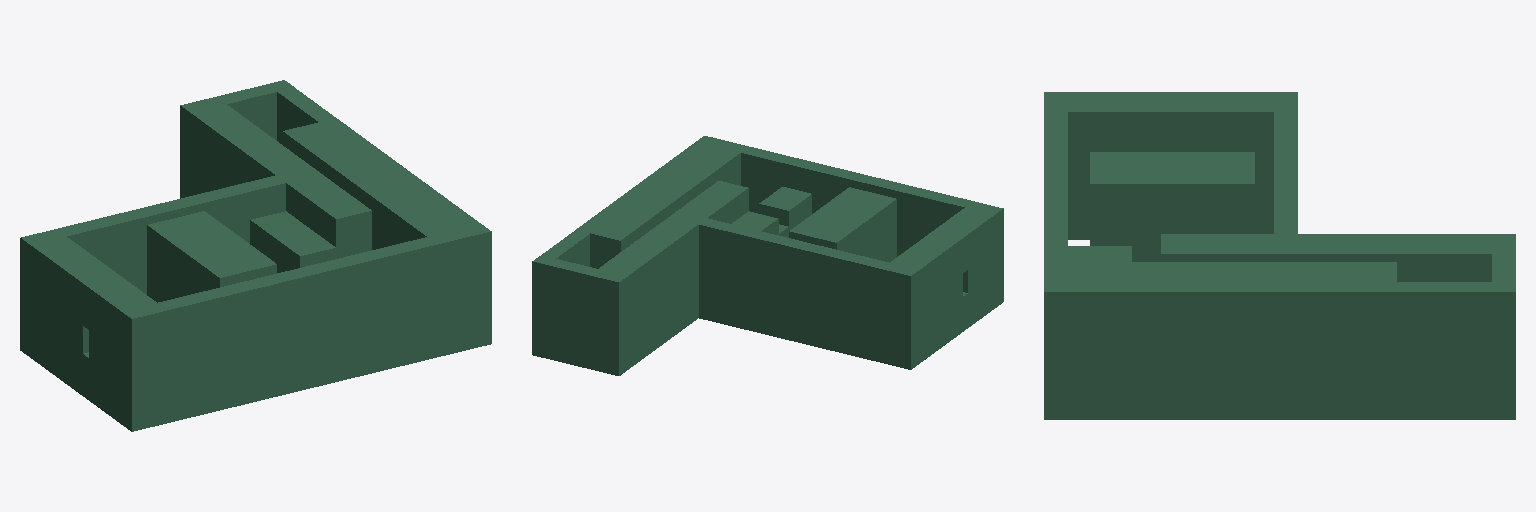
The robot description file, URDF, robot "folding_drone_obstacle2":
<?xml version='1.0' encoding='utf-8'?>
<robot name="folding_drone_obstacle2">
  <link name="base_link" />
  <link name="top_wall_0">
    <inertial>
      <origin xyz="2.0 0.0 1.9375" rpy="0 0 0" />
      <mass value="999999999999999999999999999.0" />
      <inertia ixx="0.01" ixy="0" ixz="0" iyy="0.01" iyz="0" izz="0.01" />
    </inertial>
    <visual>
      <origin xyz="2.0 0.0 1.9375" rpy="0 0 0" />
      <geometry>
        <box size="1.0 5.36 1.125" />
      </geometry>
      <material name="top_wall_0_color">
        <color rgba="0.296 0.475 0.382 1" />
      </material>
    </visual>
    <collision>
      <origin xyz="2.0 0.0 1.9375" rpy="0 0 0" />
      <geometry>
        <box size="1.0 5.36 1.125" />
      </geometry>
    </collision>
  </link>
  <joint name="joint_1_top_wall_0" type="fixed">
    <parent link="base_link" />
    <child link="top_wall_0" />
    <origin xyz="0 0 0" rpy="0 0 0" />
  </joint>
  <link name="bottom_wall_0">
    <inertial>
      <origin xyz="2.0 0.0 0.0625" rpy="0 0 0" />
      <mass value="999999999999999999999999999.0" />
      <inertia ixx="0.01" ixy="0" ixz="0" iyy="0.01" iyz="0" izz="0.01" />
    </inertial>
    <visual>
      <origin xyz="2.0 0.0 0.0625" rpy="0 0 0" />
      <geometry>
        <box size="1.0 5.36 1.125" />
      </geometry>
      <material name="bottom_wall_0_color">
        <color rgba="0.296 0.475 0.382 1" />
      </material>
    </visual>
    <collision>
      <origin xyz="2.0 0.0 0.0625" rpy="0 0 0" />
      <geometry>
        <box size="1.0 5.36 1.125" />
      </geometry>
    </collision>
  </link>
  <joint name="joint_2_bottom_wall_0" type="fixed">
    <parent link="base_link" />
    <child link="bottom_wall_0" />
    <origin xyz="0 0 0" rpy="0 0 0" />
  </joint>
  <link name="left_wall_0">
    <inertial>
      <origin xyz="2.0 -1.6500000000000001 1.0" rpy="0 0 0" />
      <mass value="999999999999999999999999999.0" />
      <inertia ixx="0.01" ixy="0" ixz="0" iyy="0.01" iyz="0" izz="0.01" />
    </inertial>
    <visual>
      <origin xyz="2.0 -1.6500000000000001 1.0" rpy="0 0 0" />
      <geometry>
        <box size="1.0 2.06 0.75" />
      </geometry>
      <material name="left_wall_0_color">
        <color rgba="0.296 0.475 0.382 1" />
      </material>
    </visual>
    <collision>
      <origin xyz="2.0 -1.6500000000000001 1.0" rpy="0 0 0" />
      <geometry>
        <box size="1.0 2.06 0.75" />
      </geometry>
    </collision>
  </link>
  <joint name="joint_3_left_wall_0" type="fixed">
    <parent link="base_link" />
    <child link="left_wall_0" />
    <origin xyz="0 0 0" rpy="0 0 0" />
  </joint>
  <link name="right_wall_0">
    <inertial>
      <origin xyz="2.0 1.1800000000000002 1.0" rpy="0 0 0" />
      <mass value="999999999999999999999999999.0" />
      <inertia ixx="0.01" ixy="0" ixz="0" iyy="0.01" iyz="0" izz="0.01" />
    </inertial>
    <visual>
      <origin xyz="2.0 1.1800000000000002 1.0" rpy="0 0 0" />
      <geometry>
        <box size="1.0 3.0 0.75" />
      </geometry>
      <material name="right_wall_0_color">
        <color rgba="0.296 0.475 0.382 1" />
      </material>
    </visual>
    <collision>
      <origin xyz="2.0 1.1800000000000002 1.0" rpy="0 0 0" />
      <geometry>
        <box size="1.0 3.0 0.75" />
      </geometry>
    </collision>
  </link>
  <joint name="joint_4_right_wall_0" type="fixed">
    <parent link="base_link" />
    <child link="right_wall_0" />
    <origin xyz="0 0 0" rpy="0 0 0" />
  </joint>
  <link name="solid_wall_1">
    <inertial>
      <origin xyz="6.5 -2.43 1.0" rpy="0 0 0" />
      <mass value="999999999999999999999999999.0" />
      <inertia ixx="0.01" ixy="0" ixz="0" iyy="0.01" iyz="0" izz="0.01" />
    </inertial>
    <visual>
      <origin xyz="6.5 -2.43 1.0" rpy="0 0 0" />
      <geometry>
        <box size="10.0 0.5 3.0" />
      </geometry>
      <material name="solid_wall_1_color">
        <color rgba="0.296 0.475 0.382 1" />
      </material>
    </visual>
    <collision>
      <origin xyz="6.5 -2.43 1.0" rpy="0 0 0" />
      <geometry>
        <box size="10.0 0.5 3.0" />
      </geometry>
    </collision>
  </link>
  <joint name="joint_5_solid_wall_1" type="fixed">
    <parent link="base_link" />
    <child link="solid_wall_1" />
    <origin xyz="0 0 0" rpy="0 0 0" />
  </joint>
  <link name="solid_wall_2">
    <inertial>
      <origin xyz="5.05 2.43 1.0" rpy="0 0 0" />
      <mass value="999999999999999999999999999.0" />
      <inertia ixx="0.01" ixy="0" ixz="0" iyy="0.01" iyz="0" izz="0.01" />
    </inertial>
    <visual>
      <origin xyz="5.05 2.43 1.0" rpy="0 0 0" />
      <geometry>
        <box size="7.1 0.5 3.0" />
      </geometry>
      <material name="solid_wall_2_color">
        <color rgba="0.296 0.475 0.382 1" />
      </material>
    </visual>
    <collision>
      <origin xyz="5.05 2.43 1.0" rpy="0 0 0" />
      <geometry>
        <box size="7.1 0.5 3.0" />
      </geometry>
    </collision>
  </link>
  <joint name="joint_6_solid_wall_2" type="fixed">
    <parent link="base_link" />
    <child link="solid_wall_2" />
    <origin xyz="0 0 0" rpy="0 0 0" />
  </joint>
  <link name="solid_wall_3">
    <inertial>
      <origin xyz="5.3 0.030000000000000027 1.0" rpy="0 0 0" />
      <mass value="999999999999999999999999999.0" />
      <inertia ixx="0.01" ixy="0" ixz="0" iyy="0.01" iyz="0" izz="0.01" />
    </inertial>
    <visual>
      <origin xyz="5.3 0.030000000000000027 1.0" rpy="0 0 0" />
      <geometry>
        <box size="1.6 3.5 3.0" />
      </geometry>
      <material name="solid_wall_3_color">
        <color rgba="0.296 0.475 0.382 1" />
      </material>
    </visual>
    <collision>
      <origin xyz="5.3 0.030000000000000027 1.0" rpy="0 0 0" />
      <geometry>
        <box size="1.6 3.5 3.0" />
      </geometry>
    </collision>
  </link>
  <joint name="joint_7_solid_wall_3" type="fixed">
    <parent link="base_link" />
    <child link="solid_wall_3" />
    <origin xyz="0 0 0" rpy="0 0 0" />
  </joint>
  <link name="top_wall_4">
    <inertial>
      <origin xyz="8.1 0.0 2.125" rpy="0 0 0" />
      <mass value="999999999999999999999999999.0" />
      <inertia ixx="0.01" ixy="0" ixz="0" iyy="0.01" iyz="0" izz="0.01" />
    </inertial>
    <collision>
      <origin xyz="8.1 0.0 2.125" rpy="0 0 0" />
      <geometry>
        <box size="1.0 5.36 0.75" />
      </geometry>
    </collision>
  </link>
  <joint name="joint_8_top_wall_4" type="fixed">
    <parent link="base_link" />
    <child link="top_wall_4" />
    <origin xyz="0 0 0" rpy="0 0 0" />
  </joint>
  <link name="bottom_wall_4">
    <inertial>
      <origin xyz="8.1 0.0 0.375" rpy="0 0 0" />
      <mass value="999999999999999999999999999.0" />
      <inertia ixx="0.01" ixy="0" ixz="0" iyy="0.01" iyz="0" izz="0.01" />
    </inertial>
    <visual>
      <origin xyz="8.1 0.0 0.375" rpy="0 0 0" />
      <geometry>
        <box size="1.0 5.36 1.75" />
      </geometry>
      <material name="bottom_wall_4_color">
        <color rgba="0.296 0.475 0.382 1" />
      </material>
    </visual>
    <collision>
      <origin xyz="8.1 0.0 0.375" rpy="0 0 0" />
      <geometry>
        <box size="1.0 5.36 1.75" />
      </geometry>
    </collision>
  </link>
  <joint name="joint_9_bottom_wall_4" type="fixed">
    <parent link="base_link" />
    <child link="bottom_wall_4" />
    <origin xyz="0 0 0" rpy="0 0 0" />
  </joint>
  <link name="left_wall_4">
    <inertial>
      <origin xyz="8.1 -1.75 1.5" rpy="0 0 0" />
      <mass value="999999999999999999999999999.0" />
      <inertia ixx="0.01" ixy="0" ixz="0" iyy="0.01" iyz="0" izz="0.01" />
    </inertial>
    <visual>
      <origin xyz="8.1 -1.75 1.5" rpy="0 0 0" />
      <geometry>
        <box size="1.0 1.86 0.5" />
      </geometry>
      <material name="left_wall_4_color">
        <color rgba="0.296 0.475 0.382 1" />
      </material>
    </visual>
    <collision>
      <origin xyz="8.1 -1.75 1.5" rpy="0 0 0" />
      <geometry>
        <box size="1.0 1.86 0.5" />
      </geometry>
    </collision>
  </link>
  <joint name="joint_10_left_wall_4" type="fixed">
    <parent link="base_link" />
    <child link="left_wall_4" />
    <origin xyz="0 0 0" rpy="0 0 0" />
  </joint>
  <link name="right_wall_4">
    <inertial>
      <origin xyz="8.1 1.2300000000000002 1.5" rpy="0 0 0" />
      <mass value="999999999999999999999999999.0" />
      <inertia ixx="0.01" ixy="0" ixz="0" iyy="0.01" iyz="0" izz="0.01" />
    </inertial>
    <visual>
      <origin xyz="8.1 1.2300000000000002 1.5" rpy="0 0 0" />
      <geometry>
        <box size="1.0 2.9000000000000004 0.5" />
      </geometry>
      <material name="right_wall_4_color">
        <color rgba="0.296 0.475 0.382 1" />
      </material>
    </visual>
    <collision>
      <origin xyz="8.1 1.2300000000000002 1.5" rpy="0 0 0" />
      <geometry>
        <box size="1.0 2.9000000000000004 0.5" />
      </geometry>
    </collision>
  </link>
  <joint name="joint_11_right_wall_4" type="fixed">
    <parent link="base_link" />
    <child link="right_wall_4" />
    <origin xyz="0 0 0" rpy="0 0 0" />
  </joint>
  <link name="solid_wall_5">
    <inertial>
      <origin xyz="10.75 1.05 1.0" rpy="0 0 0" />
      <mass value="999999999999999999999999999.0" />
      <inertia ixx="0.01" ixy="0" ixz="0" iyy="0.01" iyz="0" izz="0.01" />
    </inertial>
    <visual>
      <origin xyz="10.75 1.05 1.0" rpy="0 0 0" />
      <geometry>
        <box size="1.5 7.460000000000001 3.0" />
      </geometry>
      <material name="solid_wall_5_color">
        <color rgba="0.296 0.475 0.382 1" />
      </material>
    </visual>
    <collision>
      <origin xyz="10.75 1.05 1.0" rpy="0 0 0" />
      <geometry>
        <box size="1.5 7.460000000000001 3.0" />
      </geometry>
    </collision>
  </link>
  <joint name="joint_12_solid_wall_5" type="fixed">
    <parent link="base_link" />
    <child link="solid_wall_5" />
    <origin xyz="0 0 0" rpy="0 0 0" />
  </joint>
  <link name="solid_wall_6">
    <inertial>
      <origin xyz="9.1 3.2800000000000002 1.0" rpy="0 0 0" />
      <mass value="999999999999999999999999999.0" />
      <inertia ixx="0.01" ixy="0" ixz="0" iyy="0.01" iyz="0" izz="0.01" />
    </inertial>
    <visual>
      <origin xyz="9.1 3.2800000000000002 1.0" rpy="0 0 0" />
      <geometry>
        <box size="1.0 7.0 3.0" />
      </geometry>
      <material name="solid_wall_6_color">
        <color rgba="0.296 0.475 0.382 1" />
      </material>
    </visual>
    <collision>
      <origin xyz="9.1 3.2800000000000002 1.0" rpy="0 0 0" />
      <geometry>
        <box size="1.0 7.0 3.0" />
      </geometry>
    </collision>
  </link>
  <joint name="joint_13_solid_wall_6" type="fixed">
    <parent link="base_link" />
    <child link="solid_wall_6" />
    <origin xyz="0 0 0" rpy="0 0 0" />
  </joint>
  <link name="solid_wall_7">
    <inertial>
      <origin xyz="11.25 6.03 1.0" rpy="0 0 0" />
      <mass value="999999999999999999999999999.0" />
      <inertia ixx="0.01" ixy="0" ixz="0" iyy="0.01" iyz="0" izz="0.01" />
    </inertial>
    <visual>
      <origin xyz="11.25 6.03 1.0" rpy="0 0 0" />
      <geometry>
        <box size="0.49 2.5 3.0" />
      </geometry>
      <material name="solid_wall_7_color">
        <color rgba="0.296 0.475 0.382 1" />
      </material>
    </visual>
    <collision>
      <origin xyz="11.25 6.03 1.0" rpy="0 0 0" />
      <geometry>
        <box size="0.49 2.5 3.0" />
      </geometry>
    </collision>
  </link>
  <joint name="joint_14_solid_wall_7" type="fixed">
    <parent link="base_link" />
    <child link="solid_wall_7" />
    <origin xyz="0 0 0" rpy="0 0 0" />
  </joint>
  <link name="solid_wall_8">
    <inertial>
      <origin xyz="10.05 7.03 1.0" rpy="0 0 0" />
      <mass value="999999999999999999999999999.0" />
      <inertia ixx="0.01" ixy="0" ixz="0" iyy="0.01" iyz="0" izz="0.01" />
    </inertial>
    <visual>
      <origin xyz="10.05 7.03 1.0" rpy="0 0 0" />
      <geometry>
        <box size="2.9000000000000004 0.5 3.0" />
      </geometry>
      <material name="solid_wall_8_color">
        <color rgba="0.296 0.475 0.382 1" />
      </material>
    </visual>
    <collision>
      <origin xyz="10.05 7.03 1.0" rpy="0 0 0" />
      <geometry>
        <box size="2.9000000000000004 0.5 3.0" />
      </geometry>
    </collision>
  </link>
  <joint name="joint_15_solid_wall_8" type="fixed">
    <parent link="base_link" />
    <child link="solid_wall_8" />
    <origin xyz="0 0 0" rpy="0 0 0" />
  </joint>
</robot>

--- Render facts (derived) ---
Views: 3 orthographic renders of the robot side by side, from view 1: azimuth 30°, elevation 25°; view 2: azimuth 150°, elevation 25°; view 3: azimuth 270°, elevation 25°.
Robot: folding_drone_obstacle2 — 16 links, 15 joints (15 fixed); root link base_link; default pose: all joints at 0.
Visible links, largest first — view 1: solid_wall_1, solid_wall_5, solid_wall_6, top_wall_0, solid_wall_2, solid_wall_3, bottom_wall_0, solid_wall_8, right_wall_4, left_wall_0, right_wall_0, solid_wall_7; view 2: solid_wall_2, solid_wall_6, solid_wall_8, solid_wall_1, solid_wall_5, top_wall_0, solid_wall_3, bottom_wall_0, solid_wall_7, left_wall_4, right_wall_0, left_wall_0 (+2 smaller); view 3: solid_wall_5, solid_wall_3, solid_wall_7, top_wall_0, solid_wall_6, solid_wall_1, solid_wall_8, solid_wall_2, bottom_wall_0, left_wall_4, left_wall_0, right_wall_0.
Link boxes in pixels (<box>): solid_wall_1: <box>121,224,491,431</box>; solid_wall_5: <box>283,118,491,356</box>; solid_wall_6: <box>191,104,371,258</box>; top_wall_0: <box>20,229,167,360</box>; solid_wall_2: <box>20,175,285,357</box>; solid_wall_3: <box>147,211,276,302</box>; bottom_wall_0: <box>20,309,167,431</box>; solid_wall_8: <box>180,80,294,198</box>; right_wall_4: <box>250,211,335,269</box>; left_wall_0: <box>89,331,167,389</box>; right_wall_0: <box>20,280,88,353</box>; solid_wall_7: <box>267,83,335,144</box>; solid_wall_2: <box>699,218,919,369</box>; solid_wall_6: <box>599,181,748,369</box>; solid_wall_8: <box>532,255,627,375</box>; solid_wall_1: <box>696,136,1003,300</box>; solid_wall_5: <box>576,138,745,268</box>; top_wall_0: <box>882,201,1003,310</box>; solid_wall_3: <box>789,187,896,262</box>; bottom_wall_0: <box>903,268,1003,369</box>; solid_wall_7: <box>533,230,589,358</box>; left_wall_4: <box>759,187,811,226</box>; right_wall_0: <box>893,274,962,330</box>; left_wall_0: <box>963,244,1003,292</box>; solid_wall_5: <box>1044,262,1396,419</box>; solid_wall_3: <box>1090,152,1254,261</box>; solid_wall_7: <box>1397,282,1515,419</box>; top_wall_0: <box>1044,92,1297,159</box>; solid_wall_6: <box>1161,234,1491,281</box>; solid_wall_1: <box>1044,92,1067,419</box>; solid_wall_8: <box>1492,234,1515,419</box>; solid_wall_2: <box>1274,92,1297,233</box>; bottom_wall_0: <box>1068,192,1273,239</box>; left_wall_4: <box>1068,246,1131,261</box>; left_wall_0: <box>1068,160,1089,191</box>; right_wall_0: <box>1255,160,1273,191</box>.
Bounding box of the posed robot: 10 × 9.96 × 3 m (x, y, z).
Geometry: primitives only (box / cylinder / sphere), no mesh files.
